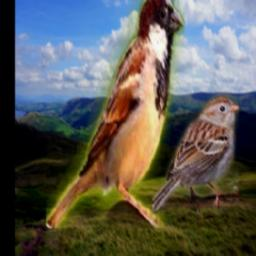Sparrow: (47, 0, 185, 229), (152, 97, 239, 215)
